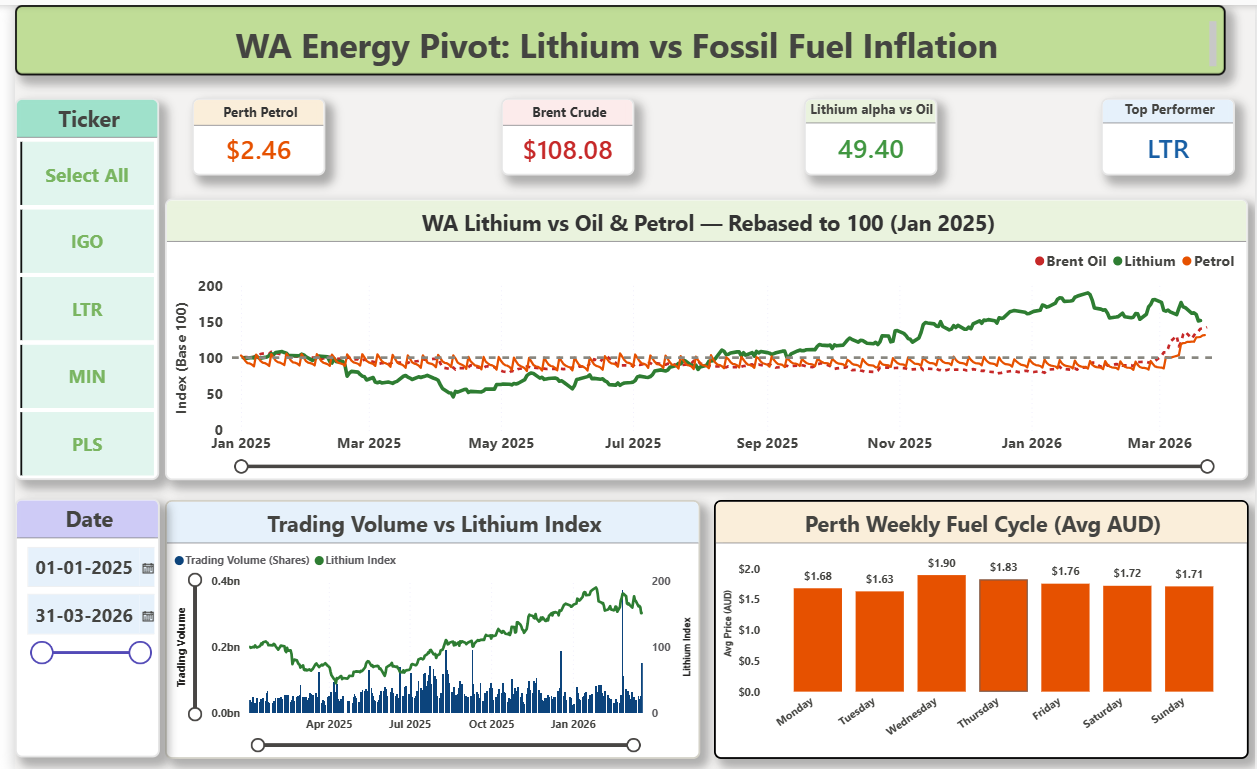

The page's visual inventory and layout, read from the dashboard file:
{"tool":"powerbi","page":{"name":"Page 1","canvas":[1375,850],"ordinal":0},"visuals":[{"type":"card","title":"Perth Petrol ","fields":{"Values":["FuelWatch.Latest_Petrol_Price"]},"box":[196,104,148,86],"z":0},{"type":"card","title":"Brent Crude","fields":{"Values":["Brent_Oil.Latest_Oil_Price"]},"box":[540,104,148,86],"z":1000},{"type":"card","title":"Lithium alpha vs Oil","fields":{"Values":["Lithium_Stocks.Lithium_Alpha"]},"box":[876,104,148,86],"z":2000},{"type":"advancedSlicerVisual","fields":{"Values":["Lithium_Stocks.Ticker"]},"box":[0,104,160,424],"z":3000},{"type":"lineClusteredColumnComboChart","title":"Trading Volume vs Lithium Index","fields":{"Category":["Master_Calendar.Date"],"Y":["Sum(Lithium_Stocks.Trading_Volume)"],"Y2":["Lithium_Stocks.Stock_Index"]},"box":[165.8,549.9,593.9,287],"z":4000},{"type":"clusteredColumnChart","title":"Perth Weekly Fuel Cycle (Avg AUD)","fields":{"Category":["Master_Calendar.DayName"],"Y":["Avg(FuelWatch.Perth_Petrol_AUD)"]},"box":[774.9,549.9,593,287],"z":5000},{"type":"lineChart","title":"WA Lithium vs Oil & Petrol — Rebased to 100 (Jan 2025)","fields":{"Category":["Master_Calendar.Date"],"Y":["Brent_Oil.Oil_Index","Lithium_Stocks.Stock_Index","FuelWatch.Petrol_Index"]},"box":[165.7,214.8,1202.3,312.8],"z":6000},{"type":"card","title":"Top Performer ","fields":{"Values":["Lithium_Stocks.Top_Performer"]},"box":[1205.7,104,148.8,86],"z":7000},{"type":"textbox","box":[10,0,1344.3,78.6],"z":8000},{"type":"slicer","title":"Date","fields":{"Values":["Master_Calendar.Date"]},"box":[0,548.2,160.7,287.6],"z":9000},{"type":"shape","box":[163.2,176.2,1211.8,78.3],"z":10000}]}

Visuals, with their boxes in screenshot pixels (x1, y1, x2, y2), scaled from the page's 1375x850 canvas onto the 1257x769 screenshot:
"Perth Petrol " card: bbox=[179, 94, 314, 172]
"Brent Crude" card: bbox=[494, 94, 629, 172]
"Lithium alpha vs Oil" card: bbox=[801, 94, 936, 172]
advancedSlicerVisual - Lithium_Stocks.Ticker: bbox=[0, 94, 146, 478]
"Trading Volume vs Lithium Index" lineClusteredColumnComboChart: bbox=[152, 497, 695, 757]
"Perth Weekly Fuel Cycle (Avg AUD)" clusteredColumnChart: bbox=[708, 497, 1251, 757]
"WA Lithium vs Oil & Petrol — Rebased to 100 (Jan 2025)" lineChart: bbox=[151, 194, 1251, 477]
"Top Performer " card: bbox=[1102, 94, 1238, 172]
textbox: bbox=[9, 0, 1238, 71]
"Date" slicer: bbox=[0, 496, 147, 756]
shape: bbox=[149, 159, 1256, 230]
